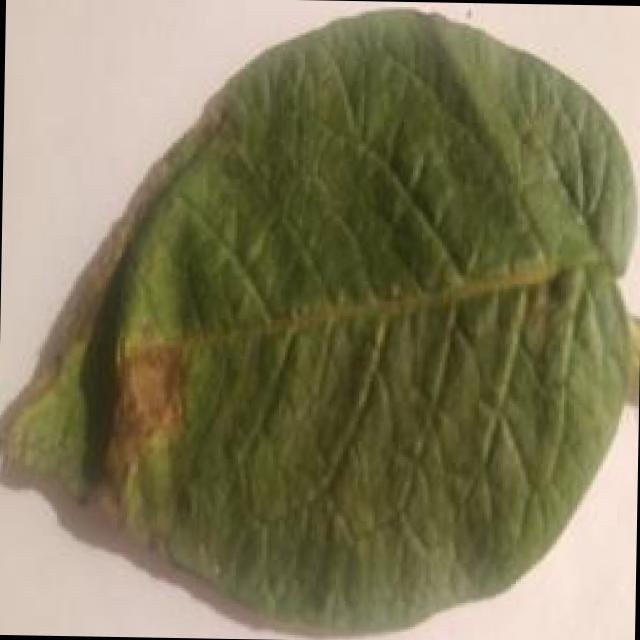Potato_Late_Blight: (0, 3, 629, 630)
